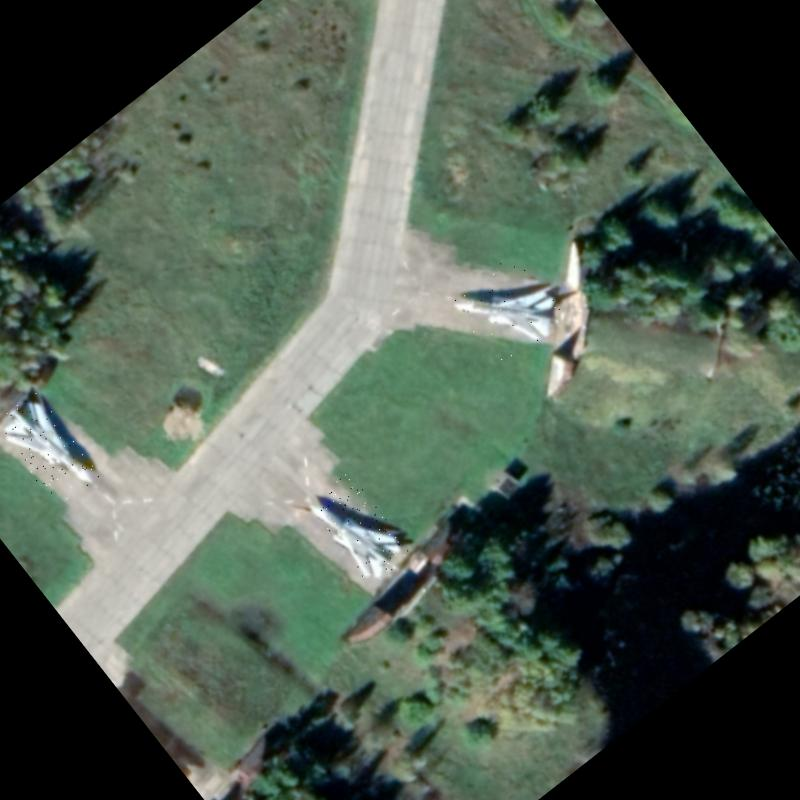A20: (450, 247, 576, 373), (306, 470, 414, 586), (0, 390, 102, 510)
